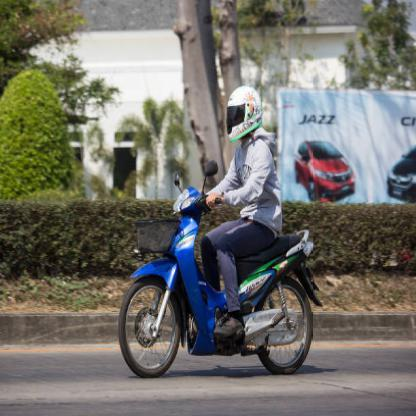Motorcycle: (113, 166, 322, 373)
